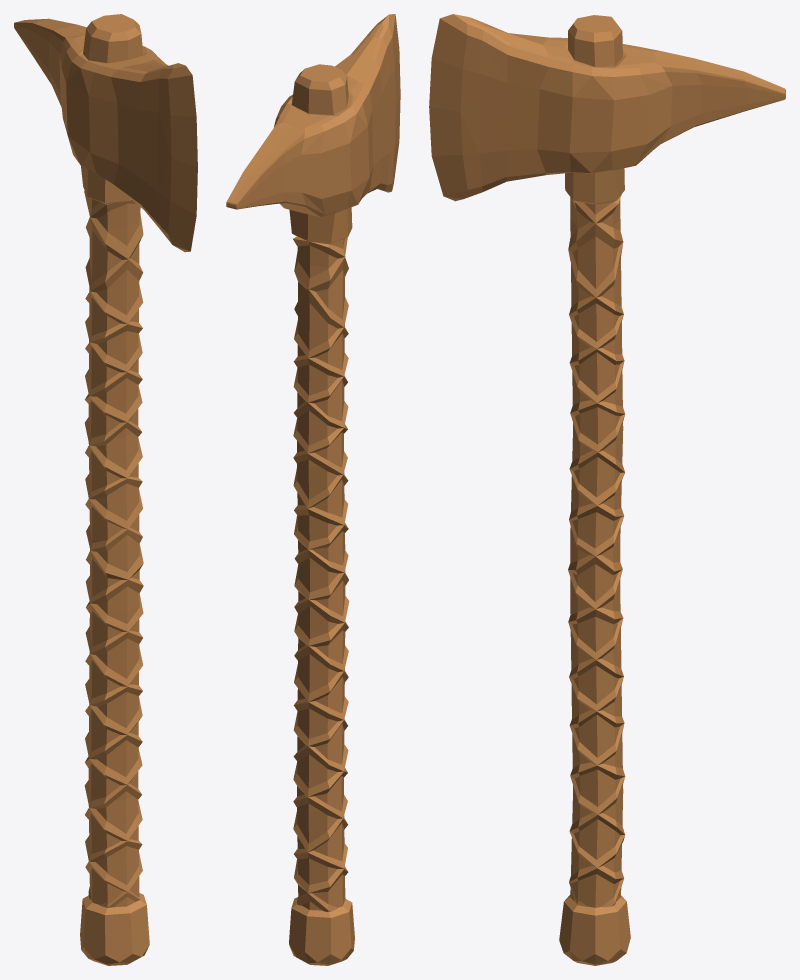
File: Copper_Waraxe_Flat.fbx
3 renders of one model, left to right at view 1: azimuth 30°, elevation 25°; view 2: azimuth 150°, elevation 25°; view 3: azimuth 270°, elevation 25°, orthographic. The views are drawn at different scales.
Visible parts, largest first — view 1: WarAxe_Copper_Flat; view 2: WarAxe_Copper_Flat; view 3: WarAxe_Copper_Flat.
Part boxes in pixels (left/top/right/bottom): WarAxe_Copper_Flat: left=14, top=14, right=197, bottom=965; WarAxe_Copper_Flat: left=226, top=14, right=400, bottom=965; WarAxe_Copper_Flat: left=429, top=14, right=785, bottom=965.
Size of the model in its own units: 0.3659 by 4.2 by 1.44.
